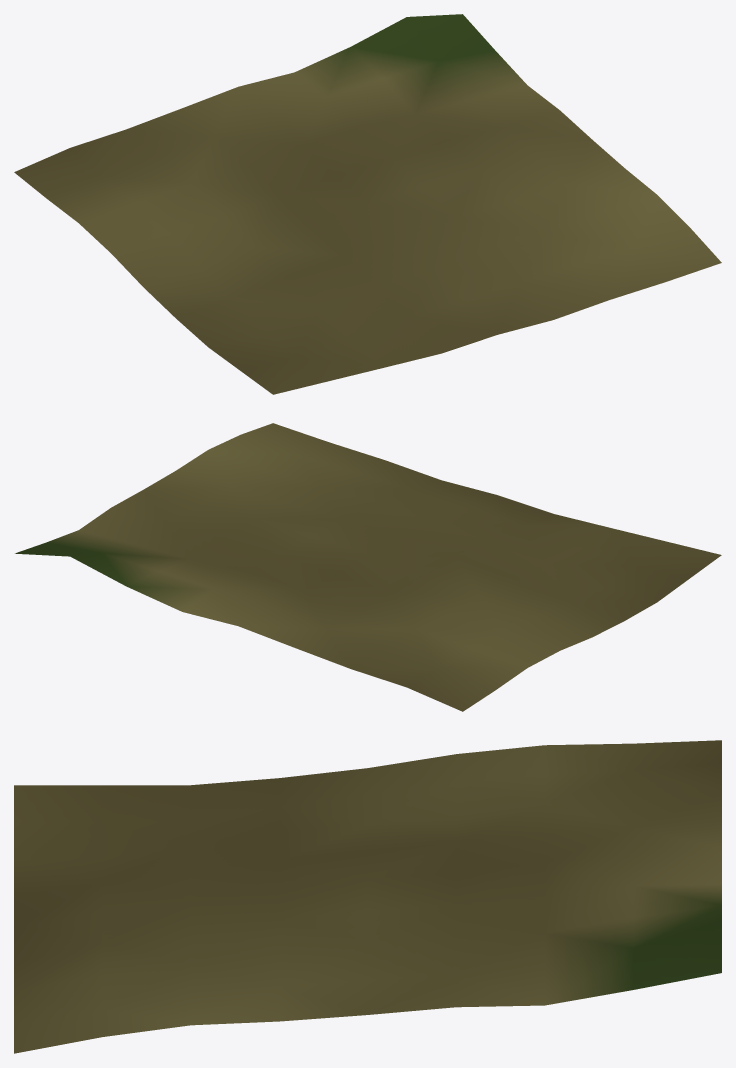
Rendered from terrain_lod2_-2_1.obj.
3 views of the same model, one above another, from view 1: azimuth 30°, elevation 25°; view 2: azimuth 150°, elevation 25°; view 3: azimuth 270°, elevation 25° (orthographic). The views are drawn at different scales.
Visible parts, largest first — view 1: terrain_lod2_-2_1; view 2: terrain_lod2_-2_1; view 3: terrain_lod2_-2_1.
Boxes of the visible parts, x1,y1,x2,y2 form: terrain_lod2_-2_1: (14, 14, 721, 394); terrain_lod2_-2_1: (15, 423, 721, 711); terrain_lod2_-2_1: (14, 740, 721, 1053).
Bounding box in the file's own units: 64 × 12.58 × 64.
